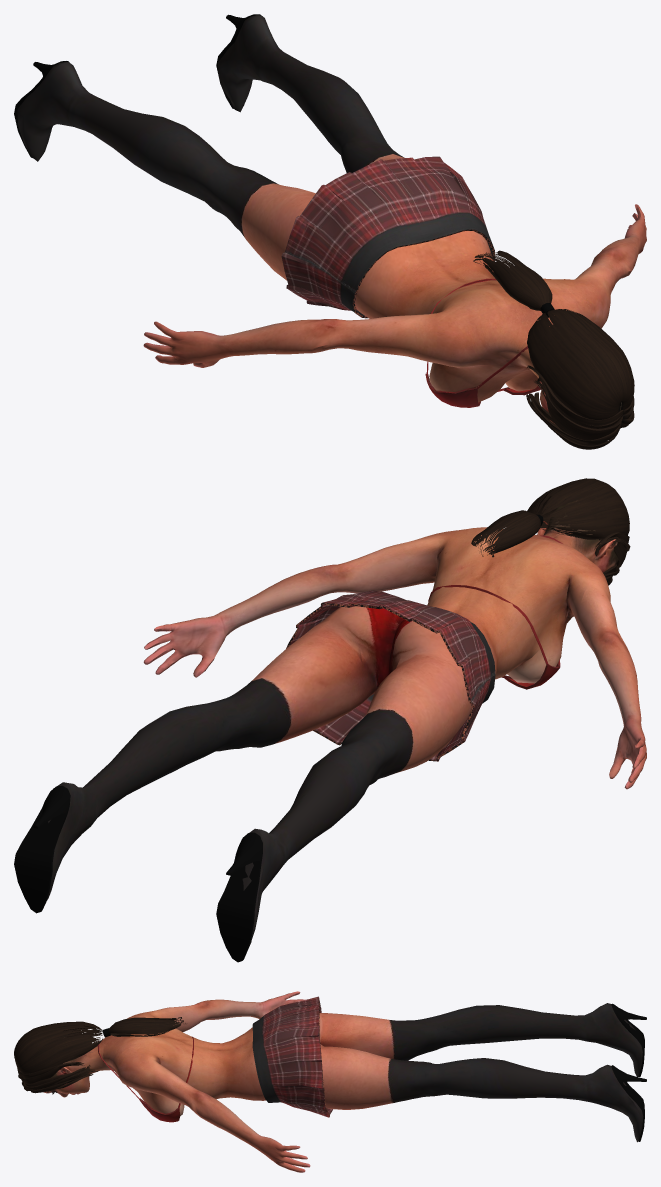
The model's file is Bikini_Girl.dae.
3 renders of one model, top to bottom at view 1: azimuth 30°, elevation 25°; view 2: azimuth 150°, elevation 25°; view 3: azimuth 270°, elevation 25°, orthographic. The views are drawn at different scales.
Visible parts, largest first — view 1: skp8888 (×7); view 2: skp8888 (×7); view 3: skp8888 (×10).
Part boxes in pixels (x1=…): skp8888 (×7): x1=17, y1=14, x2=646, y2=440; skp8888 (×7): x1=14, y1=478, x2=646, y2=962; skp8888 (×10): x1=14, y1=991, x2=646, y2=1172.
Size of the model in its own units: 87.11 by 147 by 26.37.
Materials: 4 (4 with a texture image).
